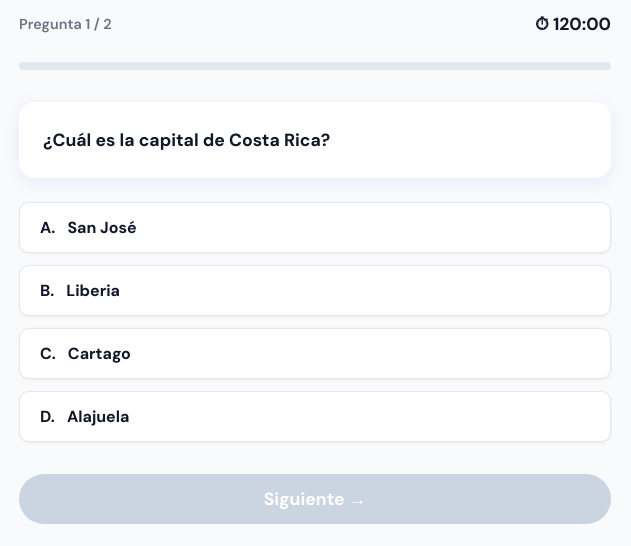
Test case: SimulacroActive › enables "Siguiente" after selecting an option
This screenshot has width=631, height=546.
Click the button "A.San José" at (102, 228), box [19,202,611,253]
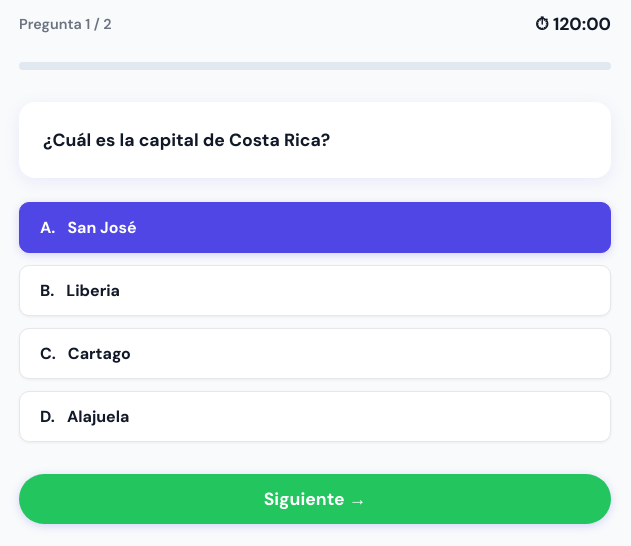
Check: the button "Siguiente →" is enabled, box [19,474,611,524]
